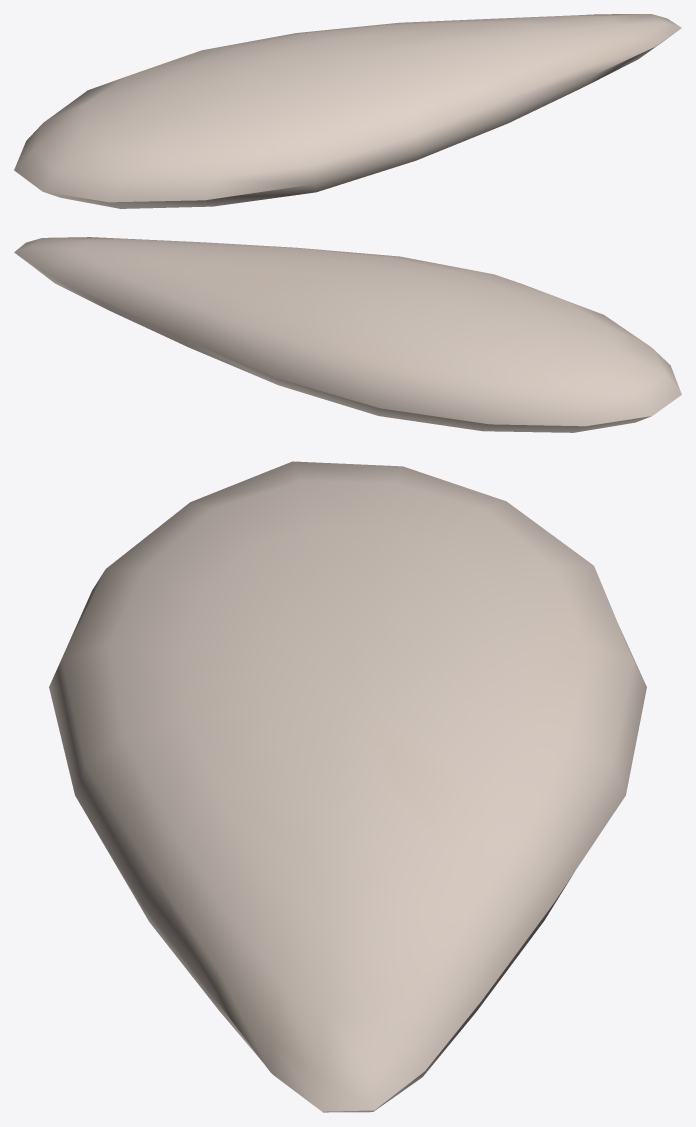
Rendered from driftback_bream_belly.glb.
3 renders of one model, top to bottom at view 1: azimuth 30°, elevation 25°; view 2: azimuth 150°, elevation 25°; view 3: azimuth 270°, elevation 25°, orthographic. The views are drawn at different scales.
Visible parts, largest first — view 1: driftback_bream_belly; view 2: driftback_bream_belly; view 3: driftback_bream_belly.
Boxes of the visible parts, x1,y1,x2,y2 form: driftback_bream_belly: (14, 14, 681, 208); driftback_bream_belly: (14, 237, 681, 432); driftback_bream_belly: (49, 461, 646, 1112).
Size of the model in its own units: 0.1 by 0.01 by 0.04.
